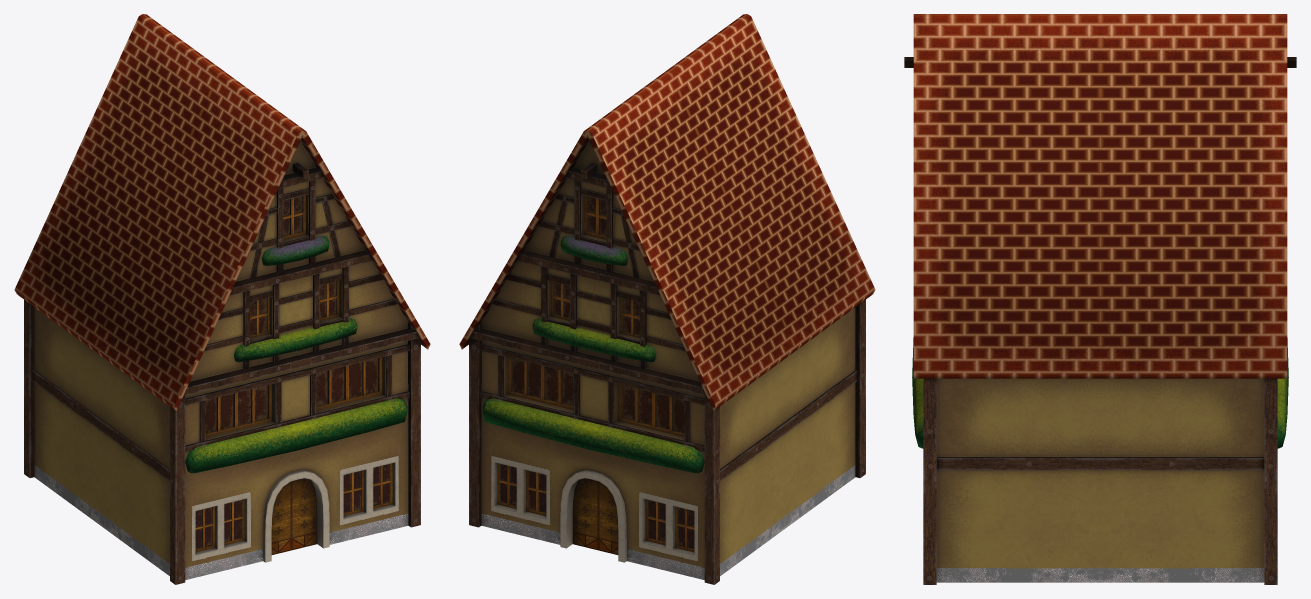
File: 3rdHouse2.FBX
3 renders of one model, left to right at view 1: azimuth 30°, elevation 25°; view 2: azimuth 150°, elevation 25°; view 3: azimuth 270°, elevation 25°, orthographic. The views are drawn at different scales.
Parts seen in each view (by area): view 1: obj1; view 2: obj1; view 3: obj1.
Part boxes in pixels (x1=…): obj1: x1=14, y1=14, x2=430, y2=584; obj1: x1=459, y1=14, x2=875, y2=584; obj1: x1=904, y1=14, x2=1296, y2=584.
Size of the model in its own units: 371 by 591 by 420.
